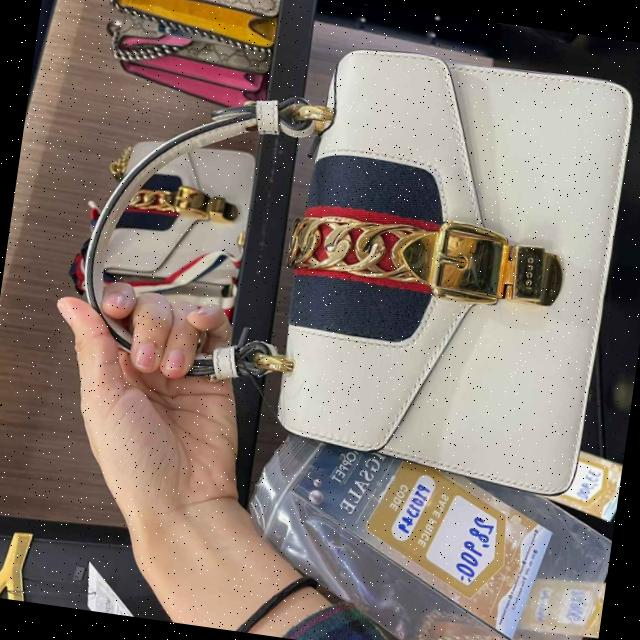Handbag: (205, 22, 640, 511)
